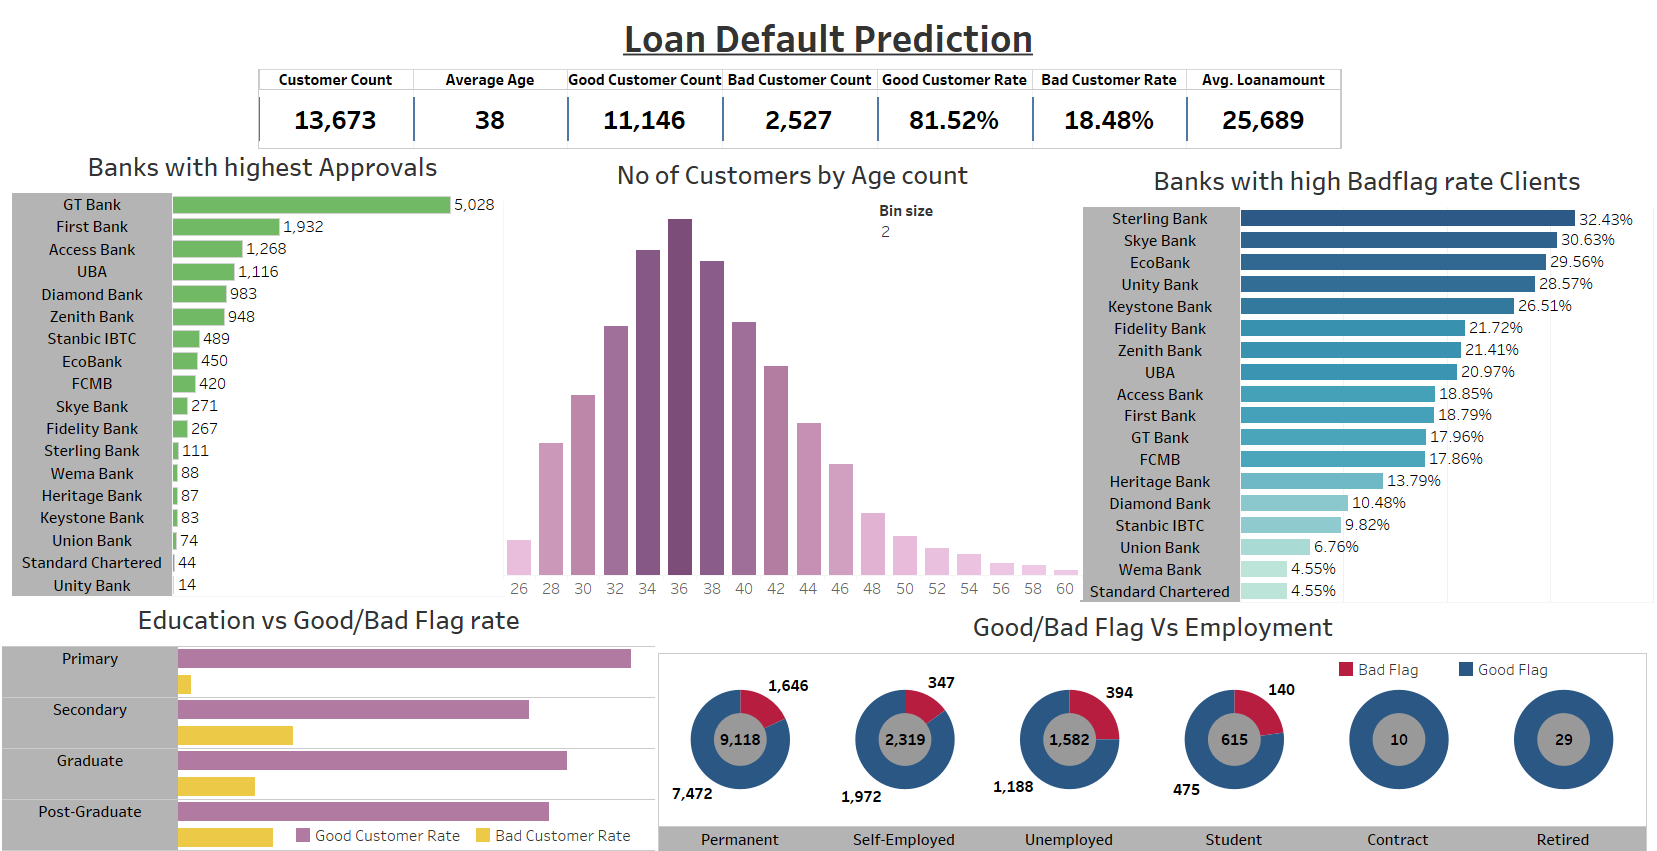

Layout of this report page (visuals, bound fields, positions):
{"tool":"tableau","page":{"name":"Dashboard 1","canvas":[1000,1000],"units":"permille","ordinal":0},"visuals":[{"type":"title","box":[4.8,9.4,990.3,68.2]},{"type":"worksheet","title":"KPI","mark":"Bar","box":[185.3,81.1,554.6,95.2]},{"type":"worksheet","title":"Banks with highest Approvals","mark":"Automatic","rows":["bank_name_clients"],"cols":["approveddate_x"],"box":[7.2,168,302.4,532.3]},{"type":"worksheet","title":"No of Customers by Age count","mark":"Automatic","rows":["customerid"],"cols":["Age (bin)"],"box":[303.6,177.4,349.4,527.6]},{"type":"worksheet","title":"Bank with high badflag","mark":"Automatic","rows":["bank_name_clients"],"cols":["Good Flag Rate (copy)_2539748715594678283"],"box":[651.8,184.5,346.4,522.9]},{"type":"parameter","param":"[Parameters].[Parameter 1]","box":[530.5,233.8,103.8,92.8]},{"type":"worksheet","title":"Education vs Loan Approval","mark":"Automatic","rows":["level_of_education_clients"],"box":[1.2,700.4,394.1,299.7]},{"type":"worksheet","title":"Good/Bad Flag Vs Employment","mark":"Pie","rows":["Calculation_2539748715574337539","Calculation_2539748715574362117"],"cols":["employment_status_clients"],"box":[397.1,708.6,597.5,292.6]}]}

Visuals, with their boxes on the dashboard's canvas, which has no fixed pixel size, in thousandths of its width and height (x1, y1, x2, y2). These are canvas units, not pixel positions in the 1657x851 screenshot, which may show the page scaled, cropped or inside an application window:
title: (5, 9, 995, 78)
"KPI" worksheet (Bar marks): (185, 81, 740, 176)
"Banks with highest Approvals" worksheet: (7, 168, 310, 700)
"No of Customers by Age count" worksheet: (304, 177, 653, 705)
"Bank with high badflag" worksheet: (652, 184, 998, 707)
parameter: (530, 234, 634, 327)
"Education vs Loan Approval" worksheet: (1, 700, 395, 1000)
"Good/Bad Flag Vs Employment" worksheet (Pie marks): (397, 709, 995, 1001)
